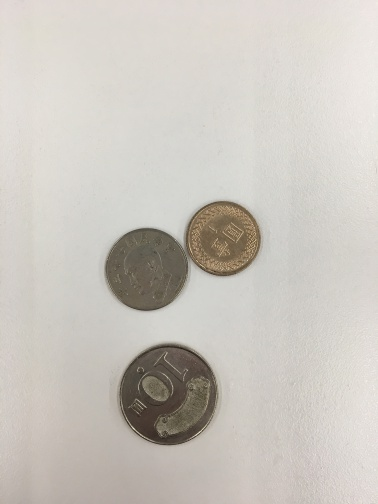1 dollar: (182, 191, 275, 285)
10 dollar: (107, 335, 237, 458)
5 dollar: (91, 217, 195, 316)
